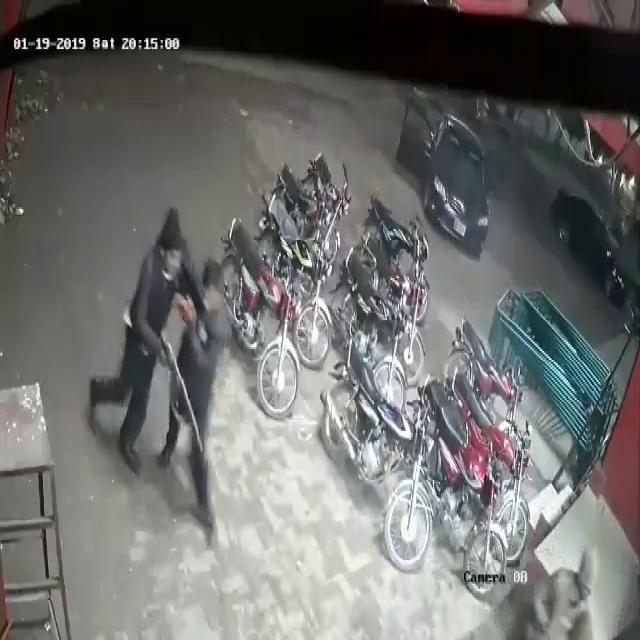weapon: (154, 320, 206, 455)
